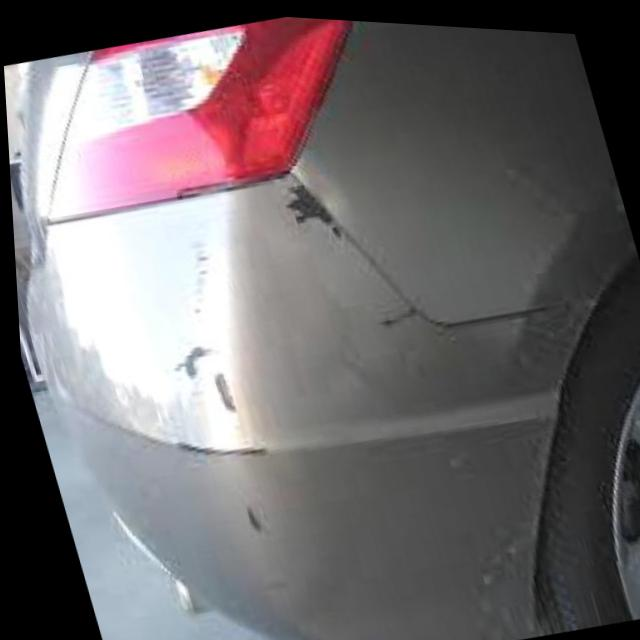Car-Damage: (118, 221, 315, 617), (272, 156, 354, 249), (363, 282, 429, 332)
